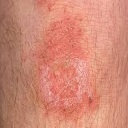Actinic: (44, 36, 96, 110)
